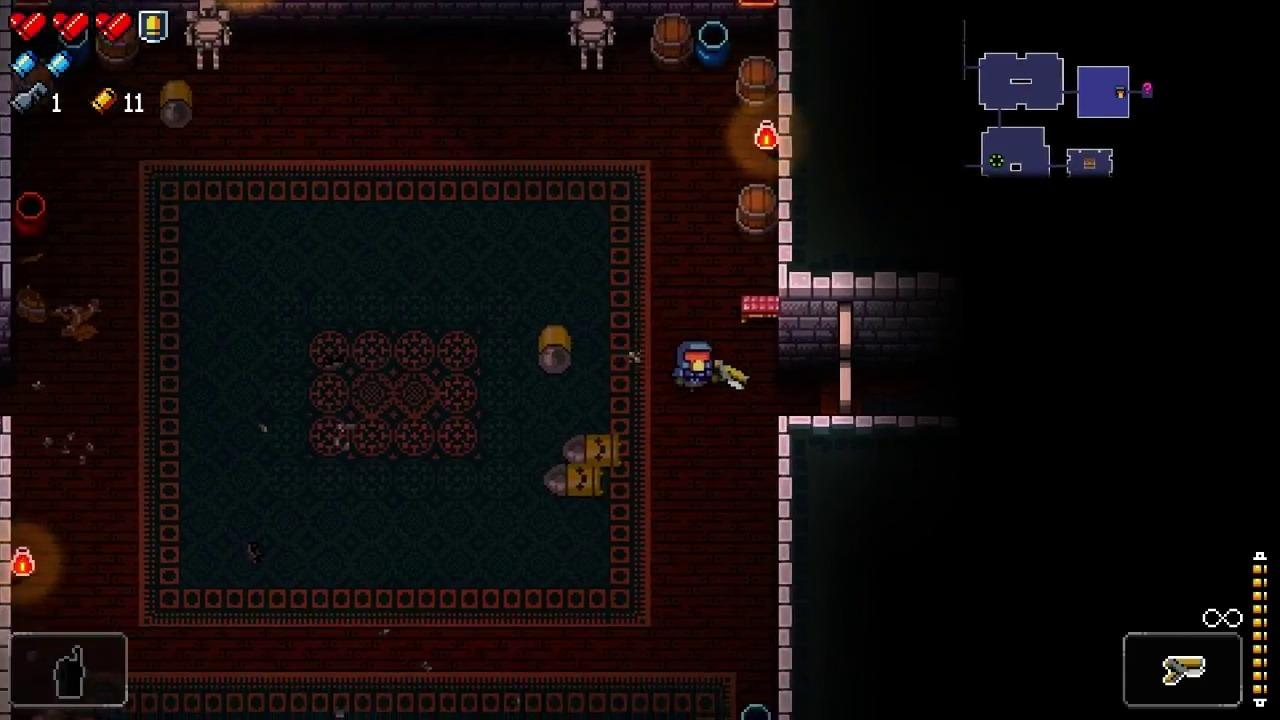dead_bullet_kin: (543, 464, 604, 496), (562, 434, 621, 467), (538, 324, 572, 376), (159, 79, 194, 129)
player: (677, 340, 712, 392)
unlocked_door: (839, 303, 851, 416)
